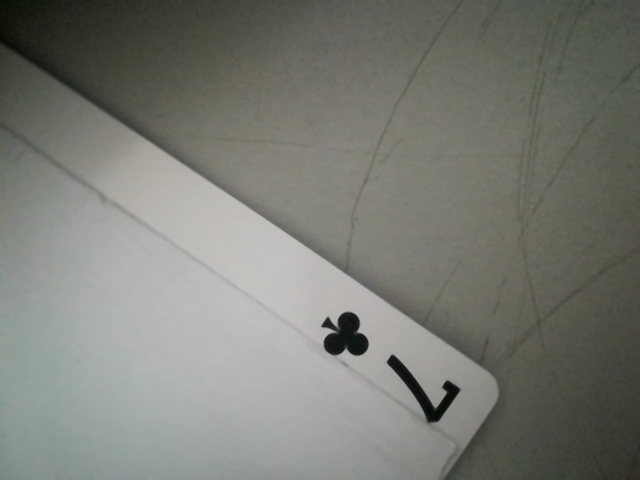mh 7: (300, 304, 478, 433)
